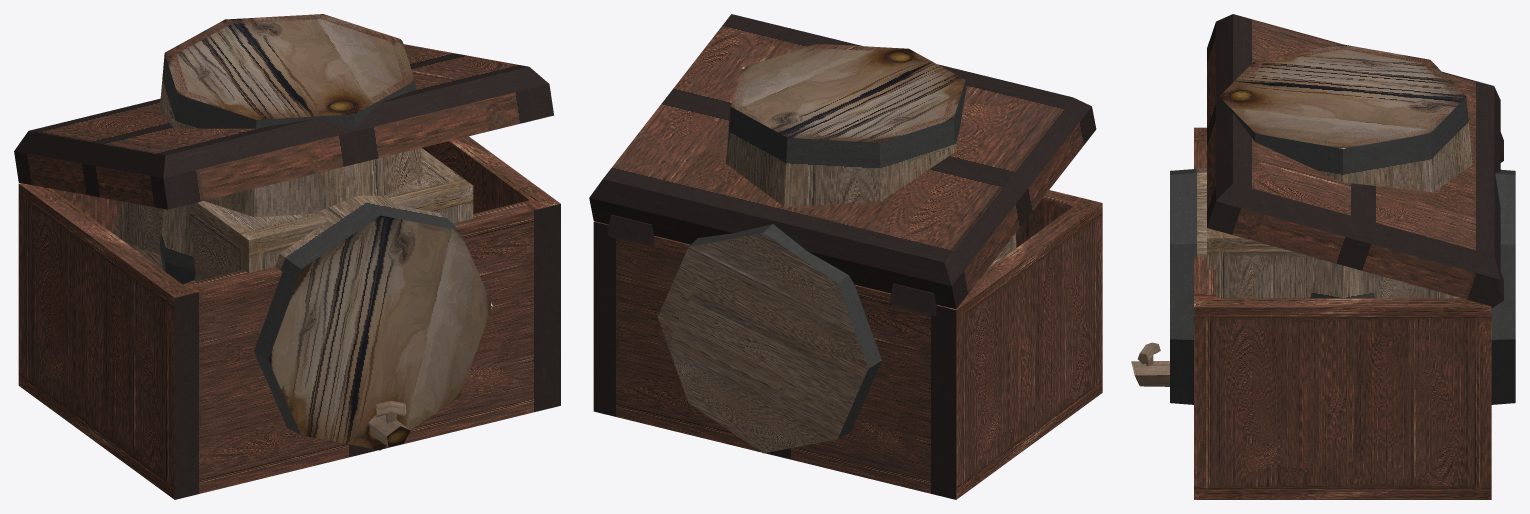
Rendered from Crates_and_barrels_glb.glb.
3 renders of one model, left to right at view 1: azimuth 30°, elevation 25°; view 2: azimuth 150°, elevation 25°; view 3: azimuth 270°, elevation 25°, orthographic. The views are drawn at different scales.
Parts seen in each view (by area): view 1: Chest_1, Barrel_2_keg, Chest_1_lid, Barrel_1, Crate_1, Crate_Broken, Barrel_1_open, Crate_1_open; view 2: Chest_1, Chest_1_lid, Barrel_2_keg, Barrel_1, Barrel_1_open; view 3: Chest_1, Chest_1_lid, Barrel_1, Barrel_2_keg, Crate_1, Barrel_1_open, Crate_Broken.
Boxes of the visible parts, left/top/right/bottom form: Chest_1: left=18, top=136, right=560, bottom=499; Barrel_2_keg: left=112, top=195, right=492, bottom=450; Chest_1_lid: left=14, top=44, right=553, bottom=209; Barrel_1: left=159, top=14, right=423, bottom=284; Crate_1: left=120, top=148, right=473, bottom=281; Crate_Broken: left=119, top=171, right=468, bottom=273; Barrel_1_open: left=166, top=14, right=414, bottom=119; Crate_1_open: left=199, top=148, right=472, bottom=239; Chest_1: left=593, top=190, right=1102, bottom=499; Chest_1_lid: left=589, top=14, right=1096, bottom=309; Barrel_2_keg: left=657, top=224, right=1002, bottom=453; Barrel_1: left=725, top=43, right=966, bottom=206; Barrel_1_open: left=731, top=43, right=964, bottom=142; Chest_1: left=1194, top=127, right=1503, bottom=499; Chest_1_lid: left=1207, top=14, right=1500, bottom=306; Barrel_1: left=1218, top=44, right=1472, bottom=298; Barrel_2_keg: left=1131, top=168, right=1515, bottom=404; Crate_1: left=1207, top=228, right=1453, bottom=298; Barrel_1_open: left=1220, top=44, right=1464, bottom=148; Crate_Broken: left=1207, top=229, right=1453, bottom=298.
Size of the model in its own units: 0.9505 by 0.7776 by 0.8602.
Materials: 2 (2 with a texture image).
